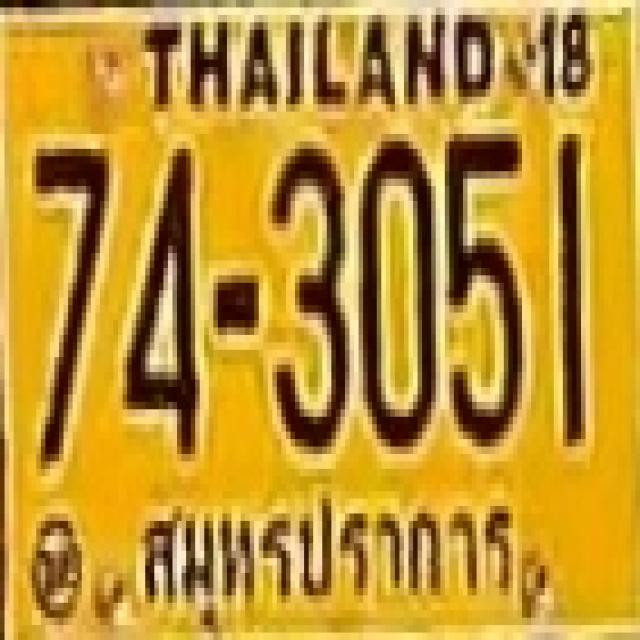0: (359, 134, 431, 439)
1: (556, 134, 583, 439)
3: (268, 142, 345, 446)
4: (123, 142, 195, 446)
5: (442, 127, 520, 439)
7: (32, 142, 104, 462)
SPK: (135, 486, 520, 598)
